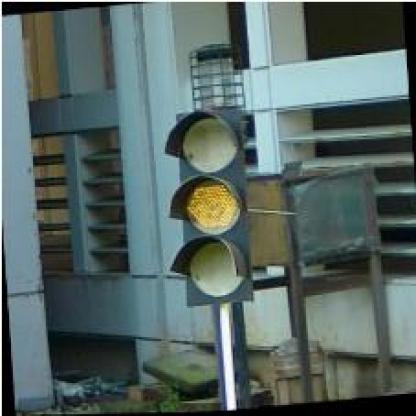yellow: (159, 105, 255, 309)
